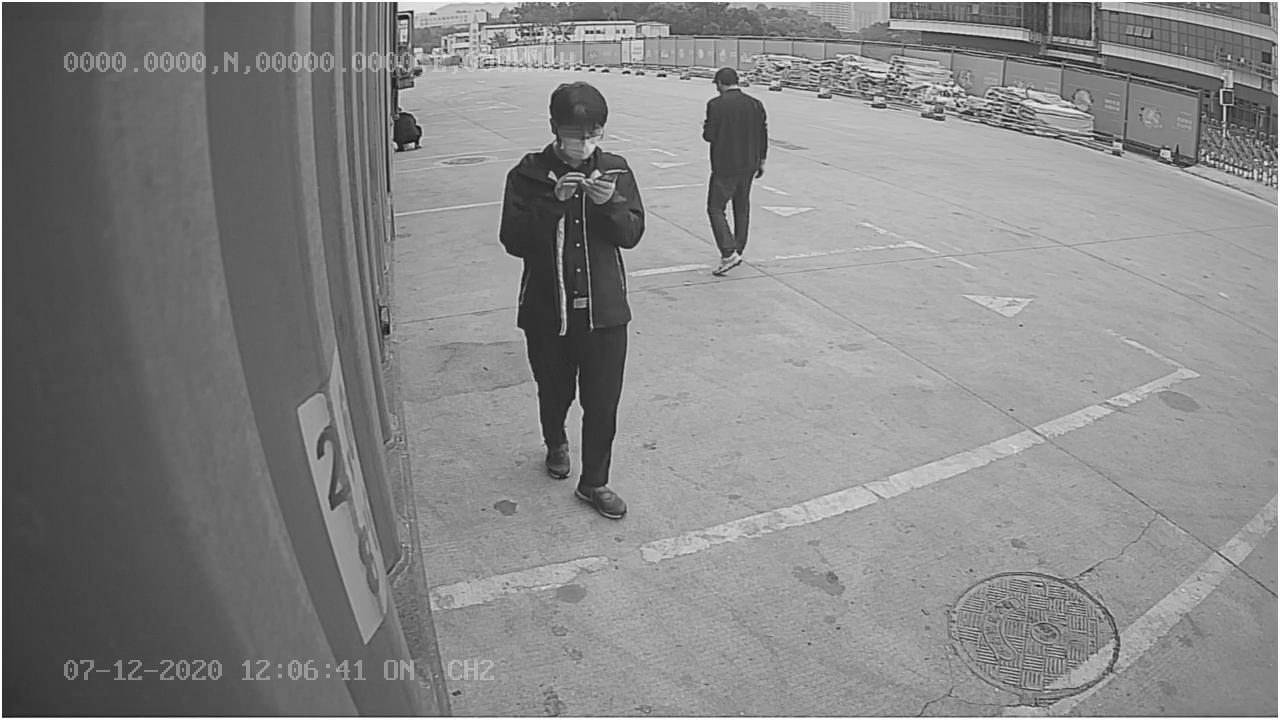person: (497, 80, 641, 520), (692, 59, 775, 278)
